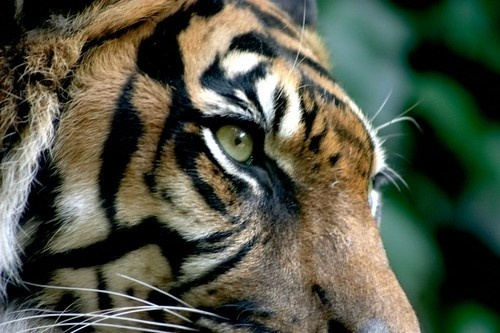tigre: (1, 4, 423, 332)
